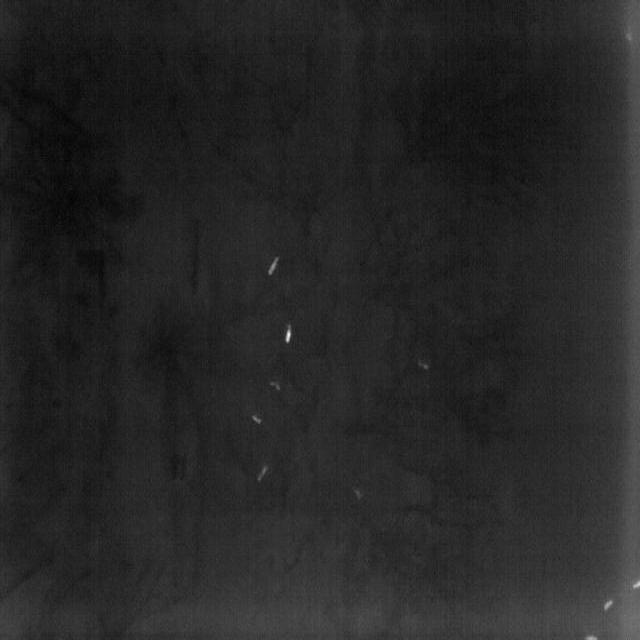deer: (267, 257, 280, 276), (256, 466, 268, 482), (284, 324, 293, 344), (603, 600, 614, 610), (252, 414, 262, 425), (270, 381, 281, 391), (631, 580, 640, 591), (585, 634, 598, 640)
